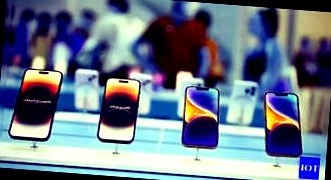iphone: (269, 80, 319, 151), (25, 84, 66, 148), (190, 82, 230, 146), (109, 85, 146, 145)
